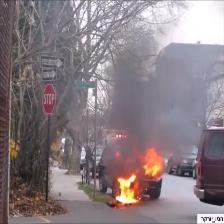fire: (116, 179, 139, 203), (144, 151, 161, 177)
smoke: (115, 62, 193, 148)
